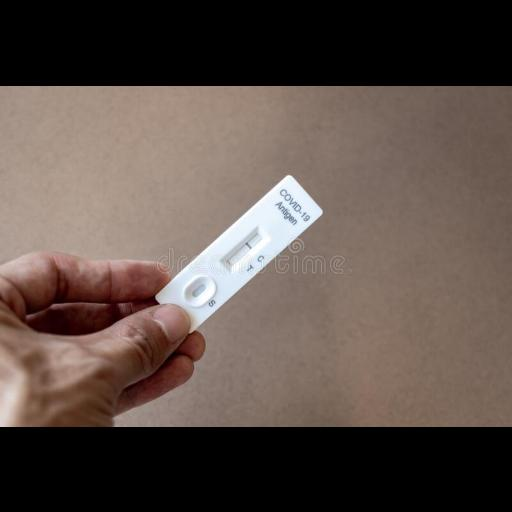Neg: (153, 172, 326, 332)
